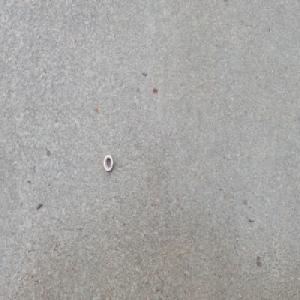Nut: (103, 154, 114, 172)
